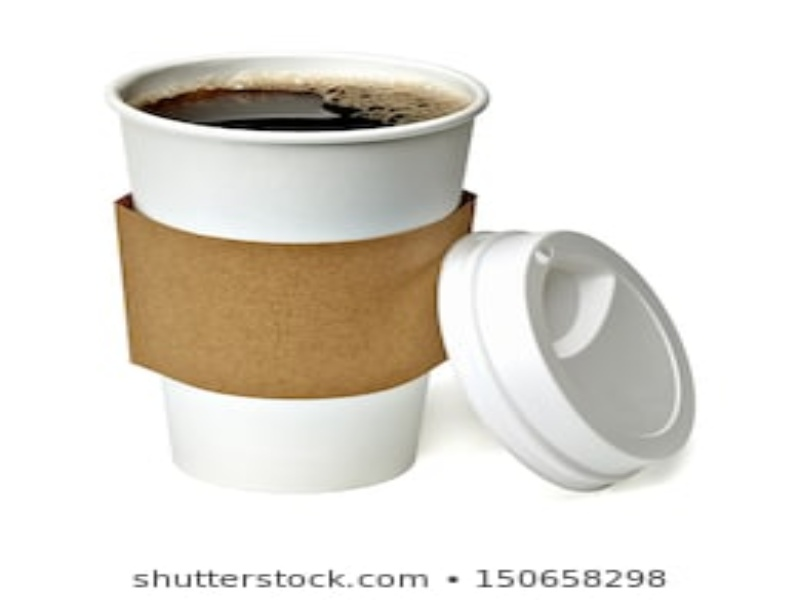coffee-lid: (436, 227, 696, 492)
plastic-cup: (106, 53, 493, 498)
